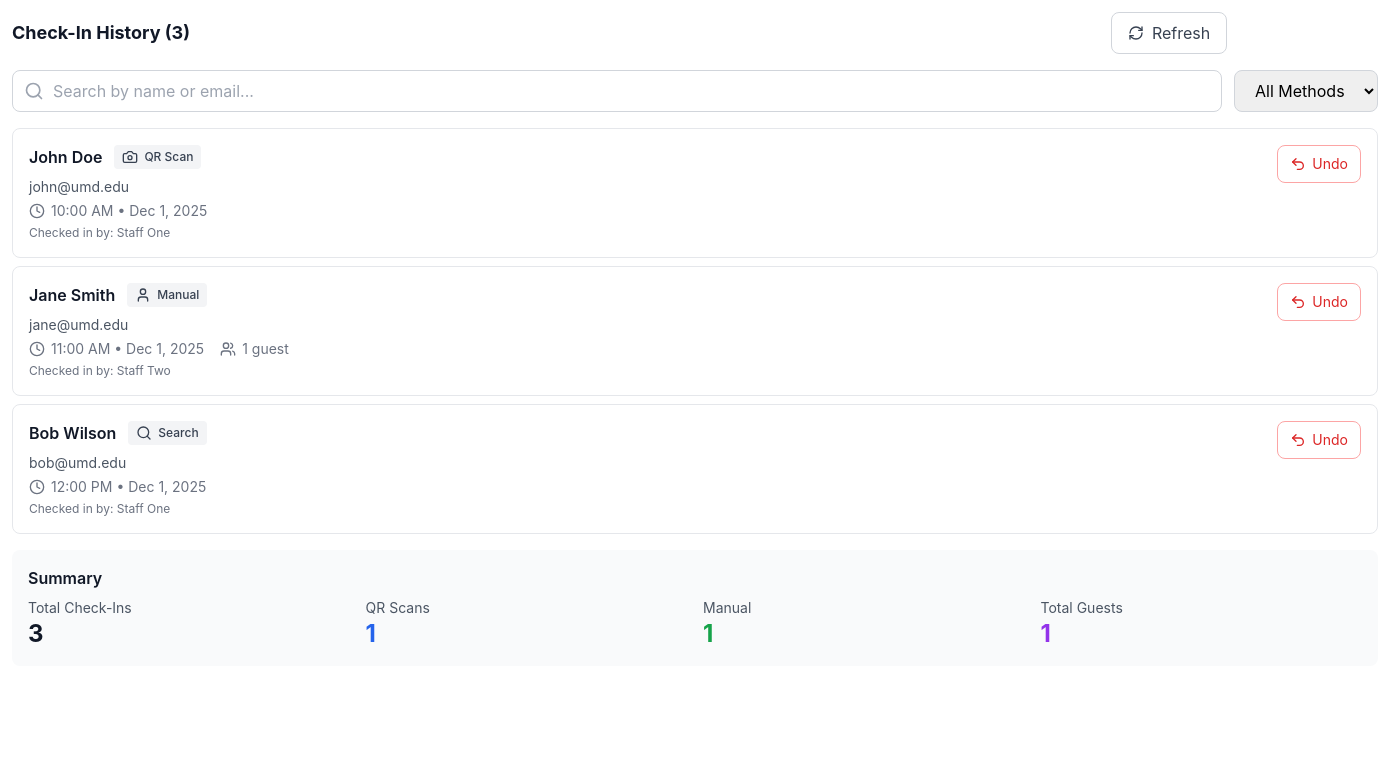
CheckInHistory › filters check-ins by method
Check: the heading "John Doe" is shown, box [29,145,102,169]
Select "QR Scan" in the dropdown showing "All Methods" at {"x": 1306, "y": 91}, box [1234,70,1378,112]
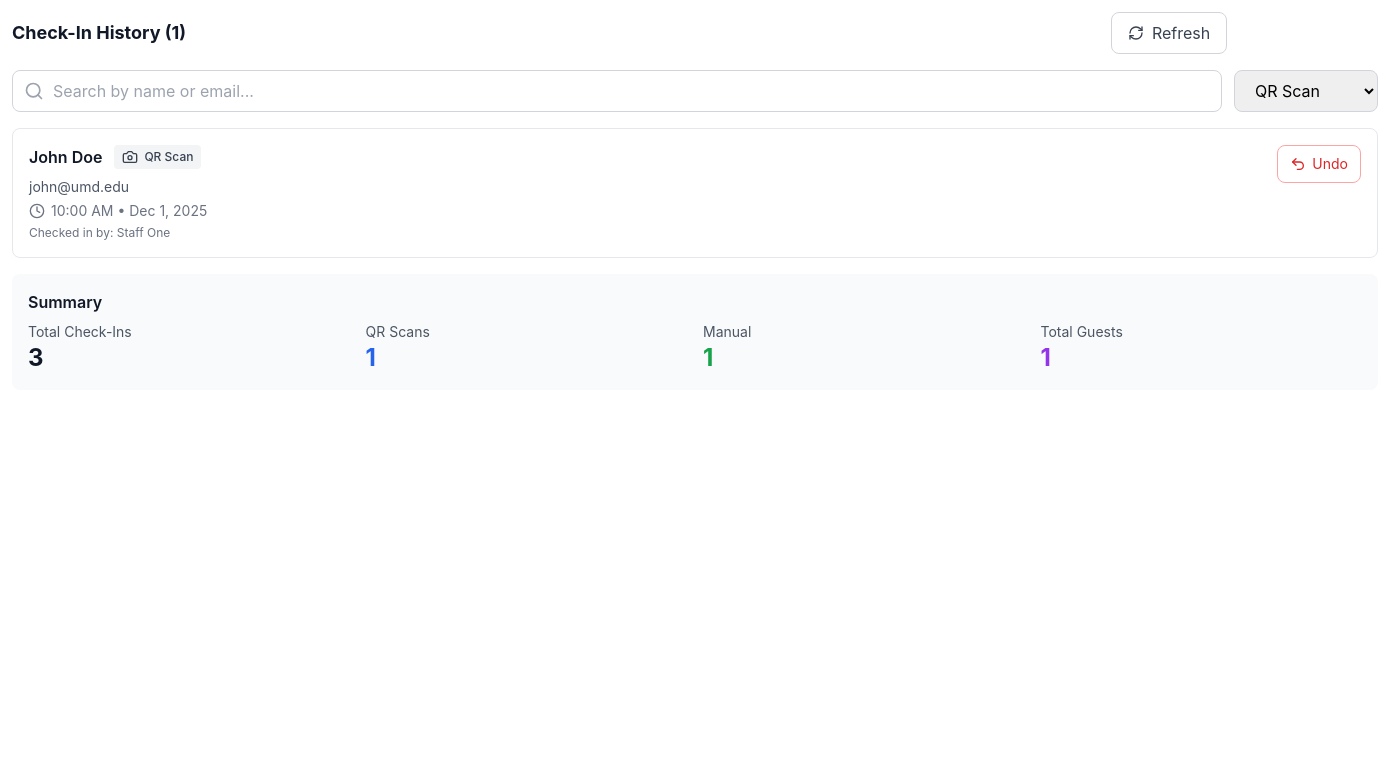
Check: the heading "John Doe" is shown, box [29,145,102,169]
Check: the heading "Jane Smith" is gone
Check: the heading "Bob Wilson" is gone
